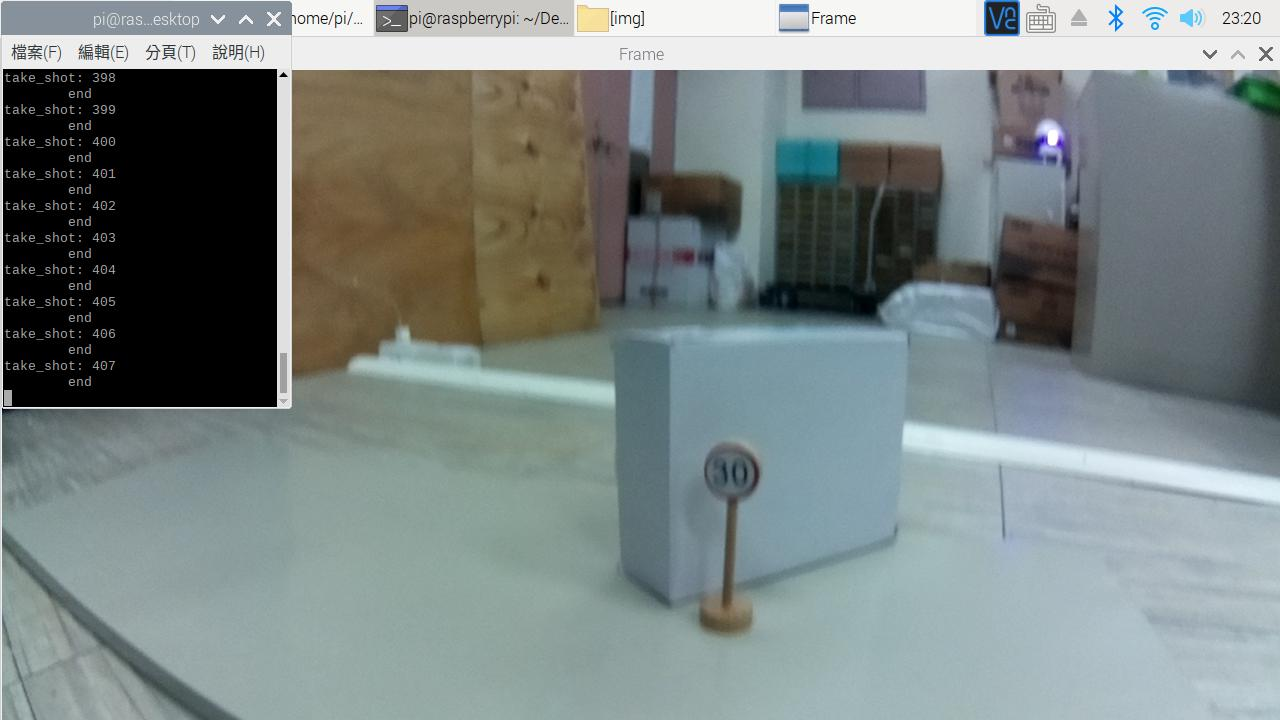Speed30: (690, 430, 798, 526)
